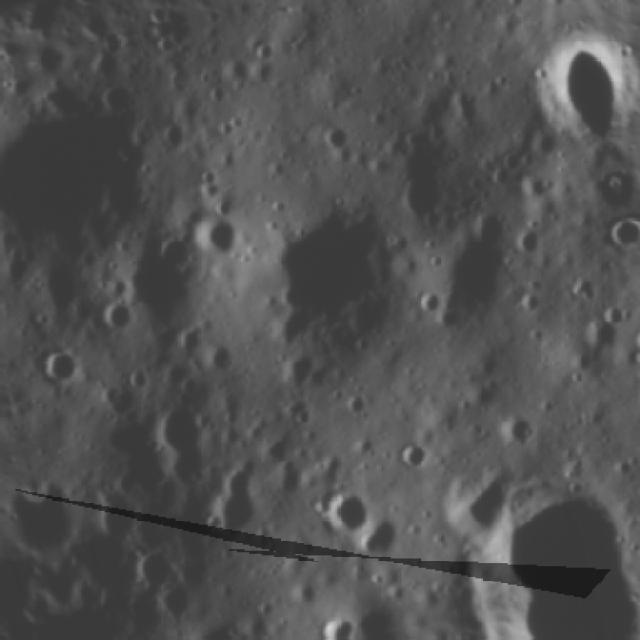crater: (0, 90, 165, 267), (438, 470, 640, 613), (245, 195, 413, 352), (521, 28, 610, 175), (133, 387, 235, 499), (188, 472, 278, 556), (80, 476, 158, 558), (299, 479, 378, 547), (32, 470, 93, 556), (125, 541, 186, 602), (188, 209, 250, 268), (574, 302, 632, 364), (29, 342, 88, 395), (87, 294, 141, 346), (384, 438, 436, 485), (196, 336, 242, 381), (308, 607, 366, 640), (598, 213, 634, 265), (152, 117, 195, 158), (24, 54, 78, 85), (316, 119, 358, 156), (0, 286, 14, 342)
